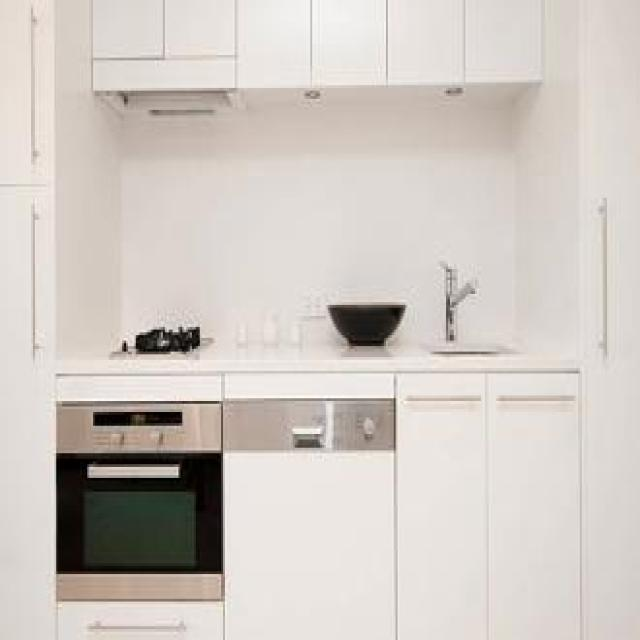dishwasher: (221, 396, 394, 637)
